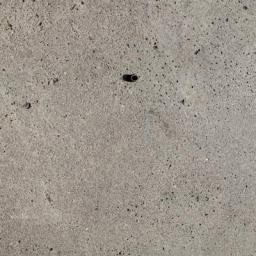FOD: (120, 71, 142, 87)
